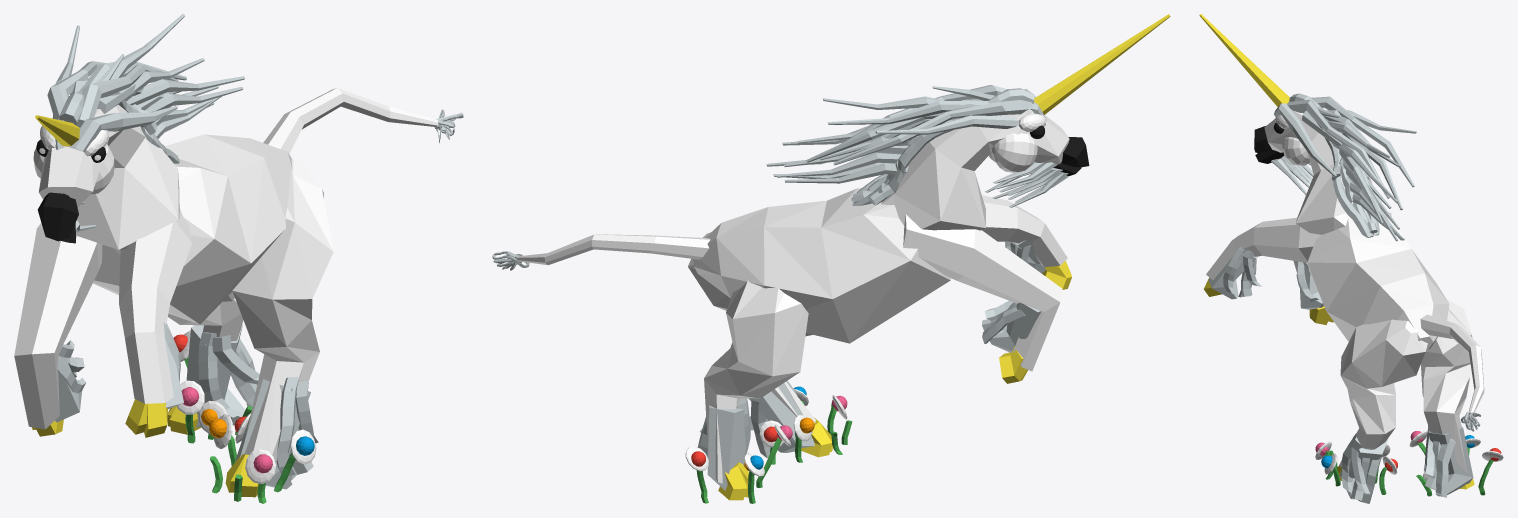
File: unicorn.glb
3 views of the same model, side by side, from view 1: azimuth 30°, elevation 25°; view 2: azimuth 150°, elevation 25°; view 3: azimuth 270°, elevation 25° (orthographic). The views are drawn at different scales.
Visible parts, largest first — view 1: group1179240691, group2097737718, group452177408, group1053255155, group812514295, group27701522, group1949776994, group2014086010, group923250548, group1597879300, group974151619, group417268613 (+18 smaller); view 2: group1179240691, group495185134, group452177408, group1053255155, group27701522, group812514295, group974151619, group923250548, group1949776994, group325724371, group769054244, group287333419 (+9 smaller); view 3: group1179240691, group2097737718, group495185134, group452177408, group812514295, group1949776994, group27701522, group140861796, group325724371, group974151619, group417268613, group769054244 (+13 smaller).
Part boxes in pixels (<box>): group1179240691: <box>93,134,292,324</box>; group2097737718: <box>232,159,333,461</box>; group452177408: <box>38,104,179,249</box>; group1053255155: <box>14,223,102,429</box>; group812514295: <box>119,208,191,403</box>; group27701522: <box>263,88,439,153</box>; group1949776994: <box>235,377,318,489</box>; group2014086010: <box>68,106,177,152</box>; group923250548: <box>55,340,86,422</box>; group1597879300: <box>37,192,78,241</box>; group974151619: <box>186,324,245,427</box>; group417268613: <box>73,63,178,127</box>; group1179240691: <box>692,188,950,343</box>; group495185134: <box>704,280,808,483</box>; group452177408: <box>881,109,1069,230</box>; group1053255155: <box>903,214,1062,371</box>; group27701522: <box>517,234,710,265</box>; group812514295: <box>982,195,1067,267</box>; group974151619: <box>707,405,748,490</box>; group923250548: <box>982,300,1041,352</box>; group1949776994: <box>748,380,814,458</box>; group325724371: <box>1034,14,1170,114</box>; group769054244: <box>833,100,1032,165</box>; group287333419: <box>991,133,1037,172</box>; group1179240691: <box>1307,218,1449,350</box>; group2097737718: <box>1339,319,1427,467</box>; group495185134: <box>1421,298,1472,472</box>; group452177408: <box>1264,109,1372,234</box>; group812514295: <box>1206,217,1321,279</box>; group1949776994: <box>1339,433,1388,503</box>; group27701522: <box>1420,314,1484,413</box>; group140861796: <box>1208,246,1261,299</box>; group325724371: <box>1199,14,1289,106</box>; group974151619: <box>1428,426,1473,496</box>; group417268613: <box>1287,99,1389,198</box>; group769054244: <box>1311,96,1414,187</box>.
Size of the model in its own units: 1.84 by 1.52 by 1.14.
